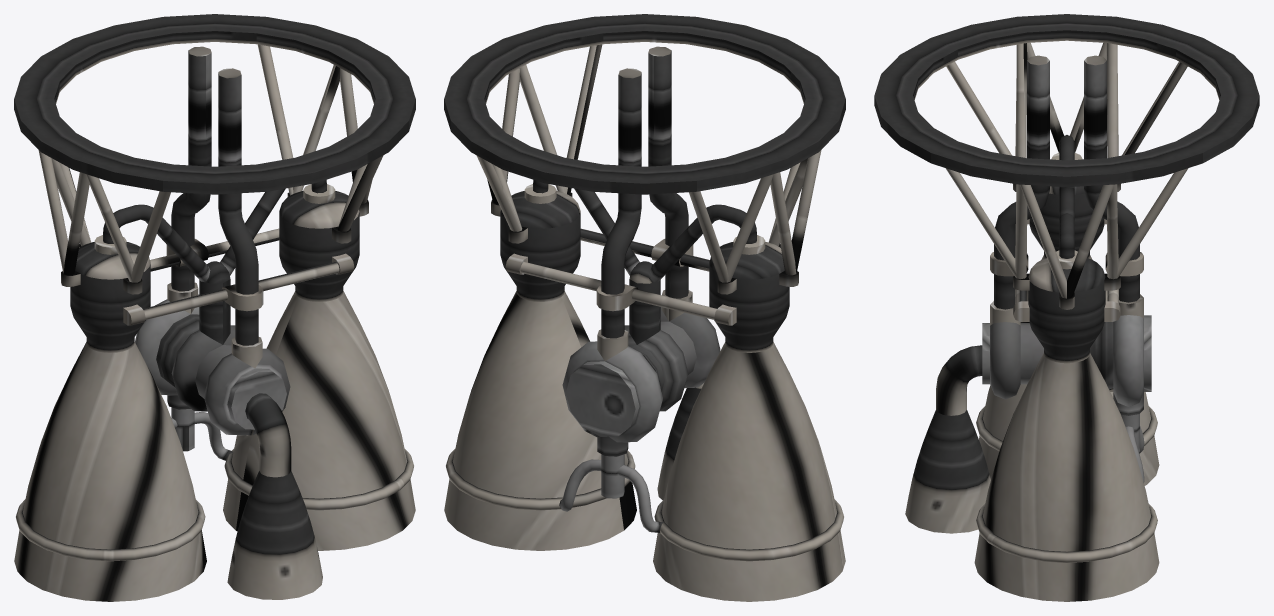
Rendered from upper stage engine.obj.
3 views of the same model, side by side, from view 1: azimuth 30°, elevation 25°; view 2: azimuth 150°, elevation 25°; view 3: azimuth 270°, elevation 25° (orthographic). The views are drawn at different scales.
Visible parts, largest first — view 1: 1; view 2: 1; view 3: 1.
Part boxes in pixels (x1,y1,x2,y2): 1: (14,14,415,601); 1: (444,14,845,601); 1: (874,14,1259,601).
Size of the model in its own units: 1.35 by 1.62 by 1.25.
